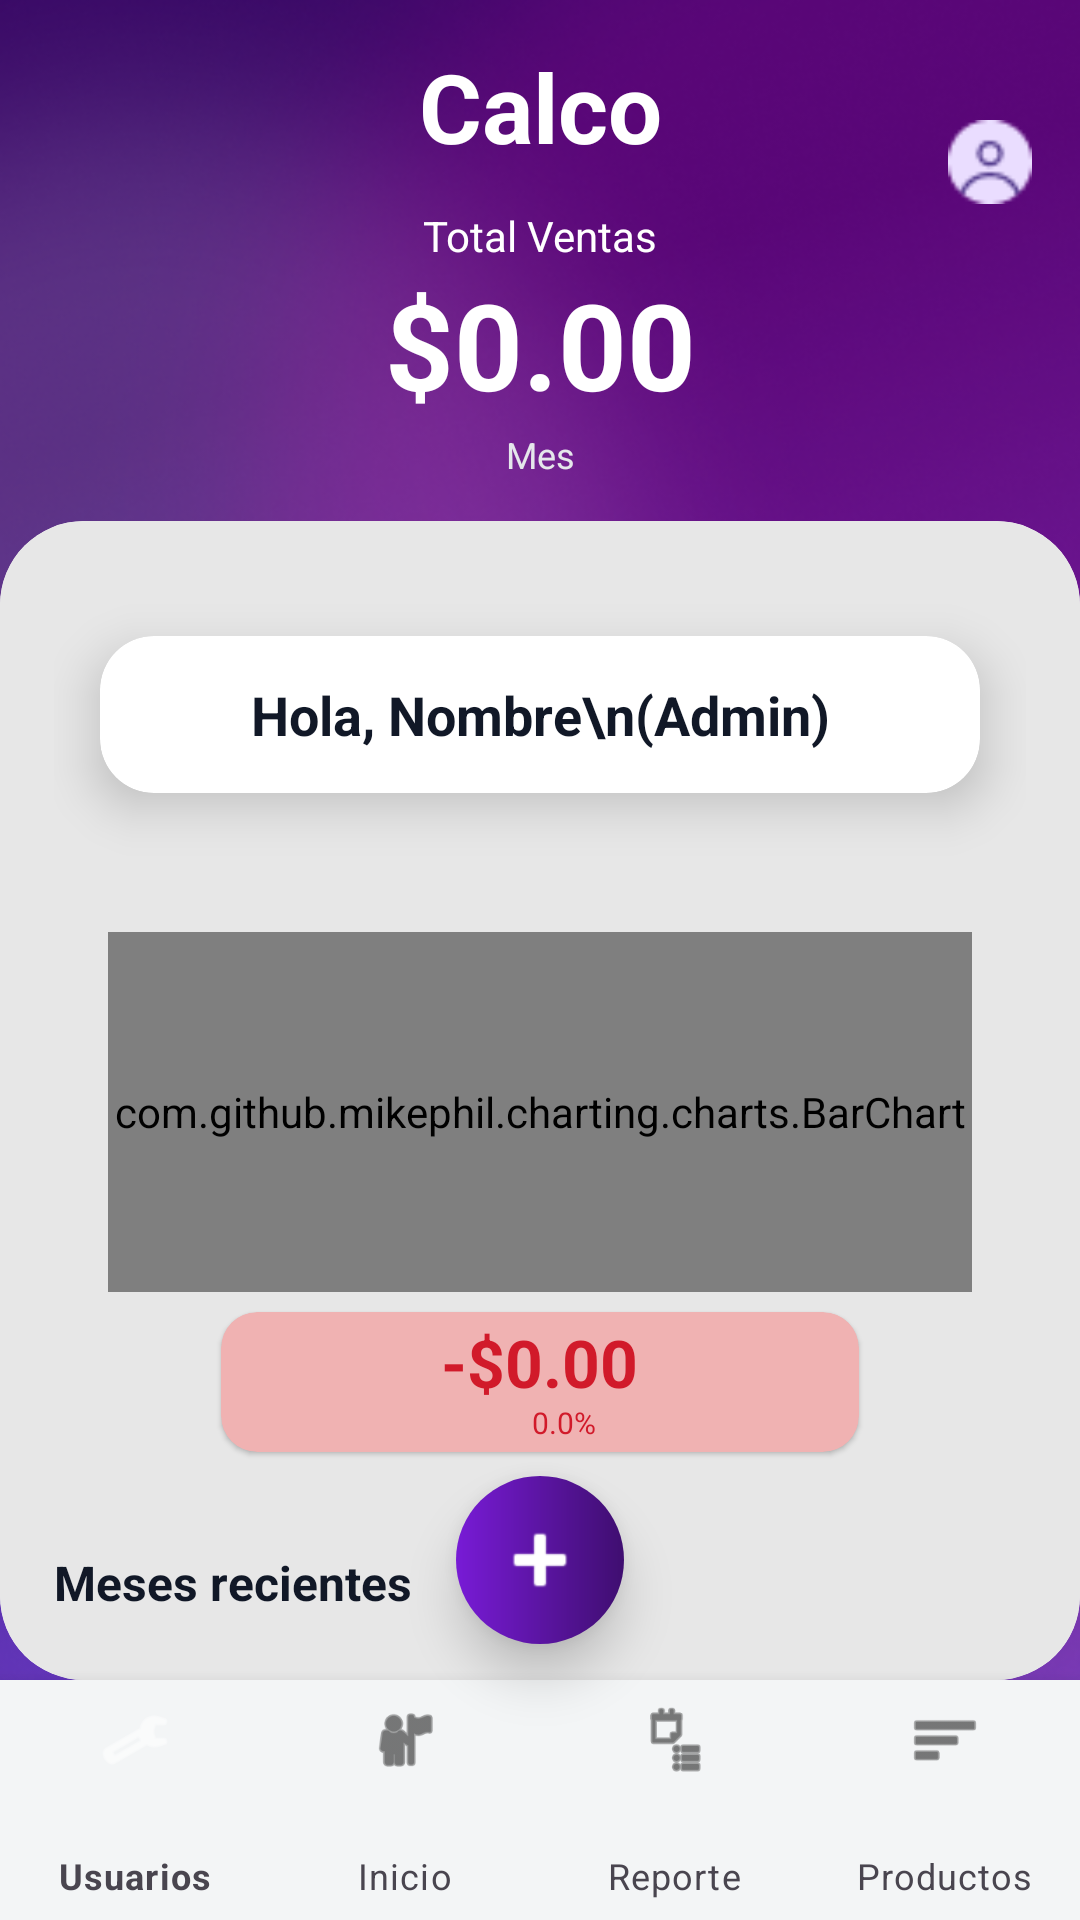

Icon bounding boxes for this 1080×1920 phone screenshot, format (x1, y1, x2, y2):
Perfil: (948, 120, 1032, 204)
